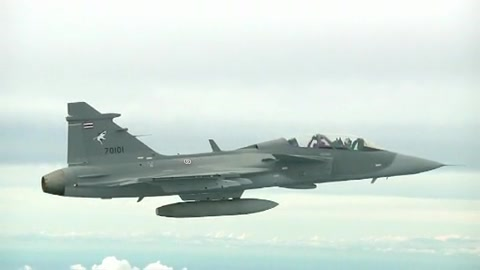aeroplane: (43, 104, 466, 219)
